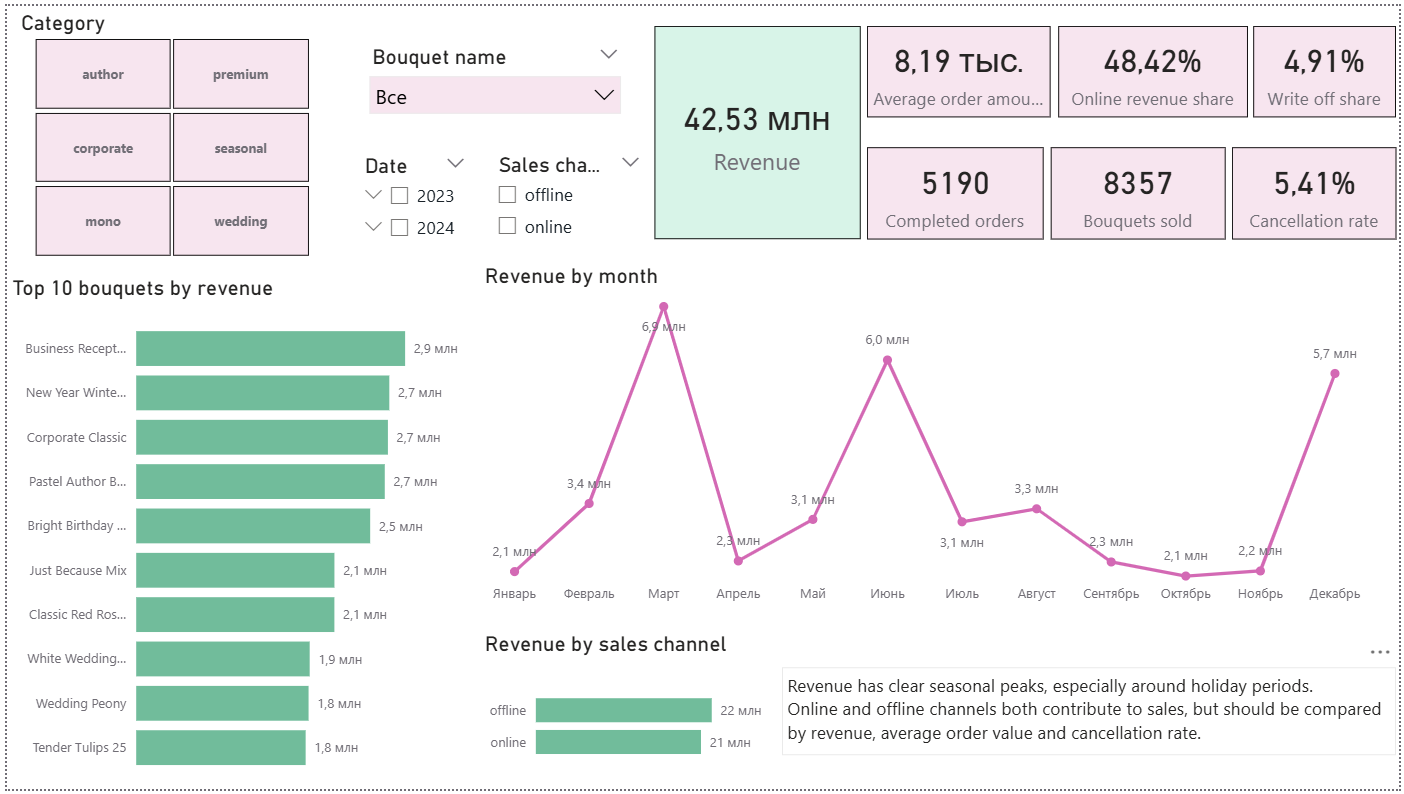

This screenshot's page, from the dashboard's own definition file:
{"tool":"powerbi","page":{"name":"Executive summary","canvas":[1280,720],"ordinal":0},"visuals":[{"type":"card","fields":{"Values":["Measuress.Revenue"]},"box":[594.8,18.9,189.3,196],"z":0},{"type":"card","fields":{"Values":["Measuress.Completed Orders"]},"box":[790.9,129.8,162.2,85.2],"z":1000},{"type":"card","fields":{"Values":["Measuress.Bouquets Sold"]},"box":[959.9,129.8,160.9,85.2],"z":2000},{"type":"card","fields":{"Values":["Measuress.Average Order Value"]},"box":[790.9,18.9,169,83.8],"z":3000},{"type":"card","fields":{"Values":["Measuress.Online Revenue Share"]},"box":[966.6,18.9,174.4,83.8],"z":4000},{"type":"card","fields":{"Values":["Measuress.Cancellation Rate"]},"box":[1126.2,129.8,151.4,85.2],"z":5000},{"type":"card","fields":{"Values":["Measuress.Write Off Rate"]},"box":[1146.4,18.9,131.1,83.8],"z":6000},{"type":"lineChart","title":"Revenue by month ","fields":{"Y":["Measuress.Revenue"],"Category":["Date.Month Name"]},"box":[434,236.6,819.3,321.8],"z":7000},{"type":"barChart","title":"Revenue by sales channel","fields":{"Category":["public orders.sales_channel"],"Y":["Measuress.Revenue"]},"box":[434,575.9,278.5,144.7],"z":8000},{"type":"barChart","title":"Top 10 bouquets by revenue","fields":{"Category":["public bouquets.bouquet_name"],"Y":["Measuress.Revenue"]},"box":[0,248.8,424.5,471.8],"z":9000},{"type":"slicer","fields":{"Values":["Date.Year","Date.Month Name","Date.Date"]},"box":[316.4,131.1,117.6,94.6],"z":10000},{"type":"slicer","fields":{"Values":["public orders.sales_channel"]},"box":[439.4,129.8,155.5,96],"z":11000},{"type":"slicer","fields":{"Values":["public bouquets.bouquet_category"]},"box":[0,0,301.5,236.6],"z":12000},{"type":"slicer","fields":{"Values":["public bouquets.bouquet_name"]},"box":[323.1,31.1,251.5,98.7],"z":13000},{"type":"textbox","box":[712.5,608.4,565.1,79.8],"z":14000}]}

Visuals, with their boxes in screenshot pixels (x1, y1, x2, y2), scaled from the page's 1280x720 canvas onto the 1404x794 screenshot:
card - Measuress.Revenue: 652,21,860,237
card - Measuress.Completed Orders: 868,143,1045,237
card - Measuress.Bouquets Sold: 1053,143,1229,237
card - Measuress.Average Order Value: 868,21,1053,113
card - Measuress.Online Revenue Share: 1060,21,1252,113
card - Measuress.Cancellation Rate: 1235,143,1401,237
card - Measuress.Write Off Rate: 1257,21,1401,113
"Revenue by month " lineChart: 476,261,1375,616
"Revenue by sales channel" barChart: 476,635,782,793
"Top 10 bouquets by revenue" barChart: 0,274,466,793
slicer - Date.Year x Date.Month Name: 347,145,476,249
slicer - public orders.sales_channel: 482,143,653,249
slicer - public bouquets.bouquet_category: 0,0,331,261
slicer - public bouquets.bouquet_name: 354,34,630,143
textbox: 782,671,1401,759
